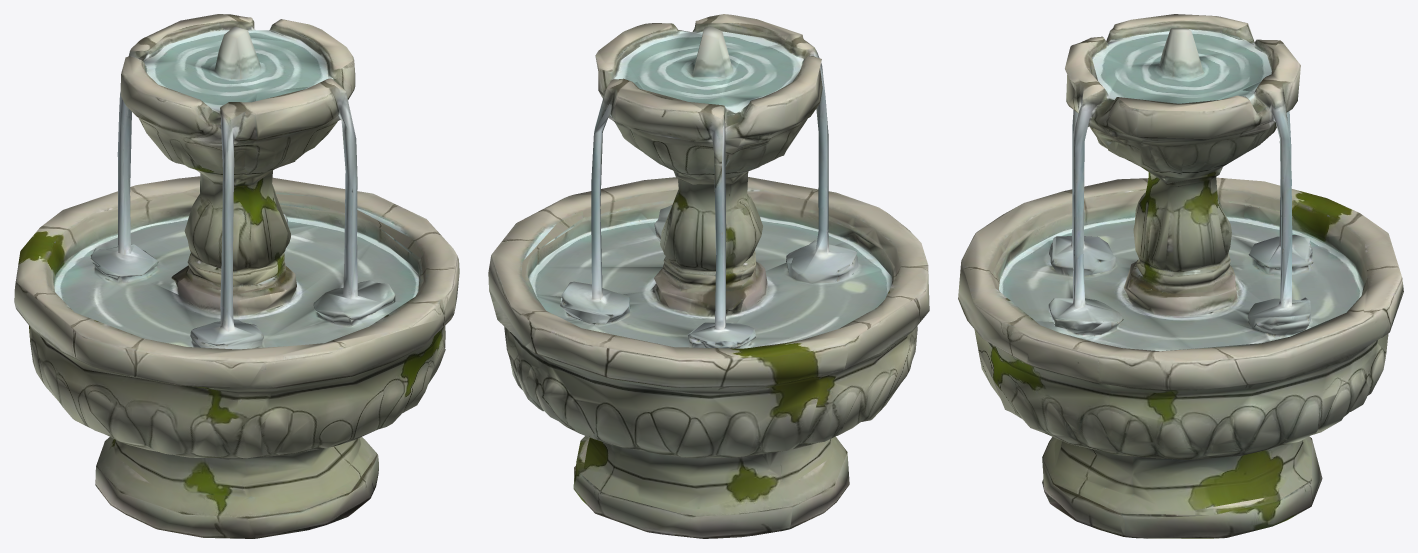
The model's file is fountain.glb.
3 views of the same model, side by side, from view 1: azimuth 30°, elevation 25°; view 2: azimuth 150°, elevation 25°; view 3: azimuth 270°, elevation 25° (orthographic).
Bounding box in the file's own units: 1.75 × 1.98 × 1.76.
Materials: 1 (1 with a texture image).
